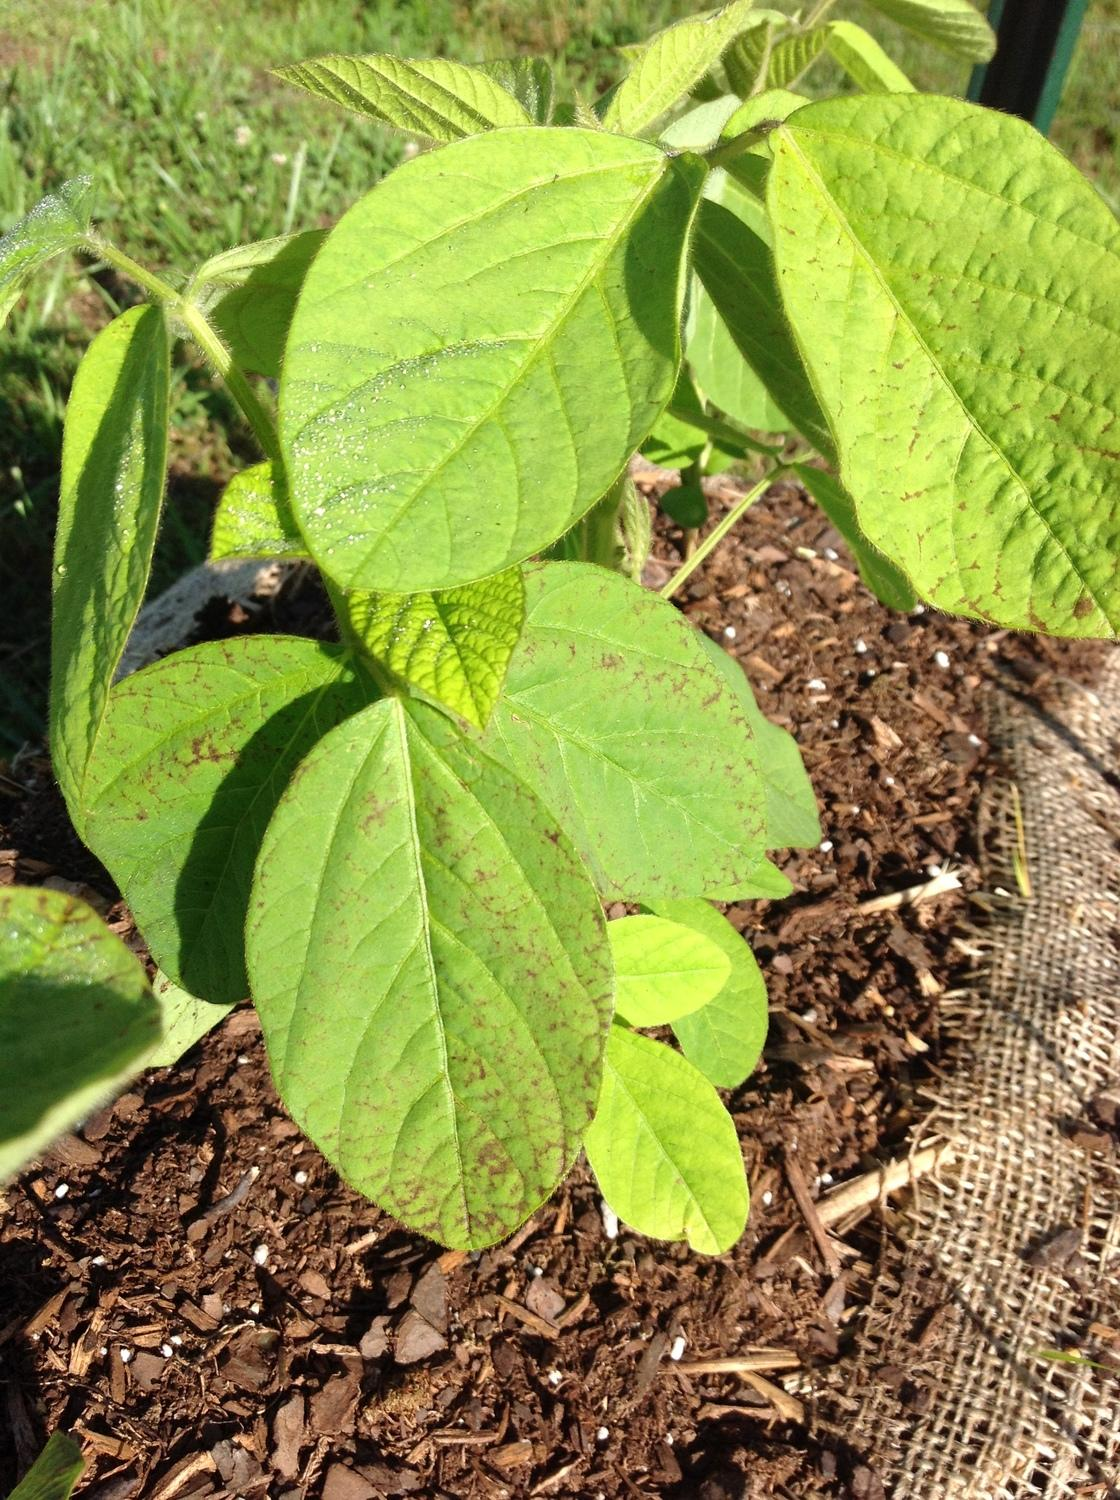Soyabean leaf: (244, 686, 624, 1265), (284, 114, 722, 613), (759, 71, 1120, 656)
